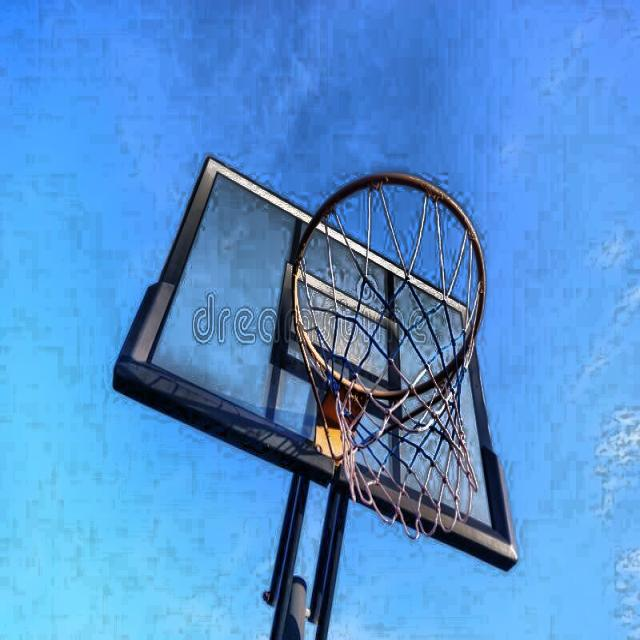rim: (292, 170, 484, 532)
